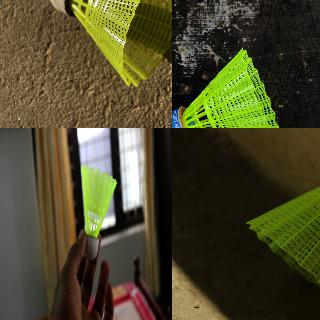shuttlecock: (246, 144, 319, 306), (48, 0, 171, 87), (172, 49, 283, 127), (80, 165, 116, 259)
